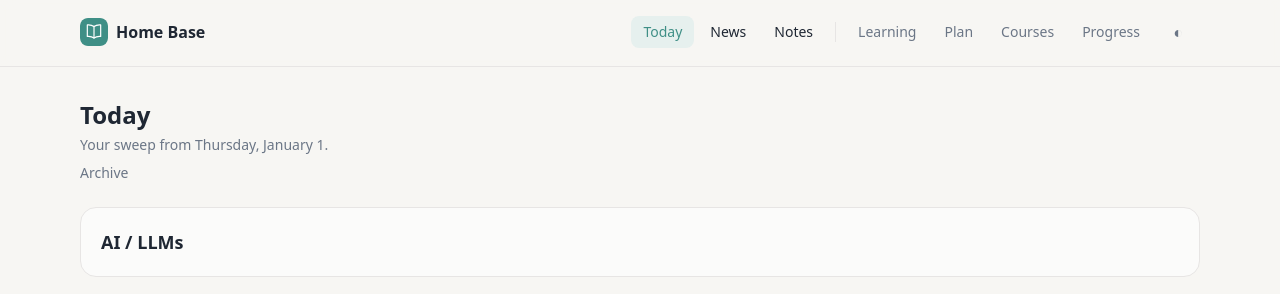
Test: App shell navigation › returning to Today shows the held brief instantly — no skeleton, no flash (FR15)
This screenshot has width=1280, height=294.
Check: the heading "AI / LLMs" is shown, box x1=101 y1=228 x2=184 y2=256
Click the link "Notes".
click(794, 32)  # box x1=774 y1=22 x2=813 y2=41
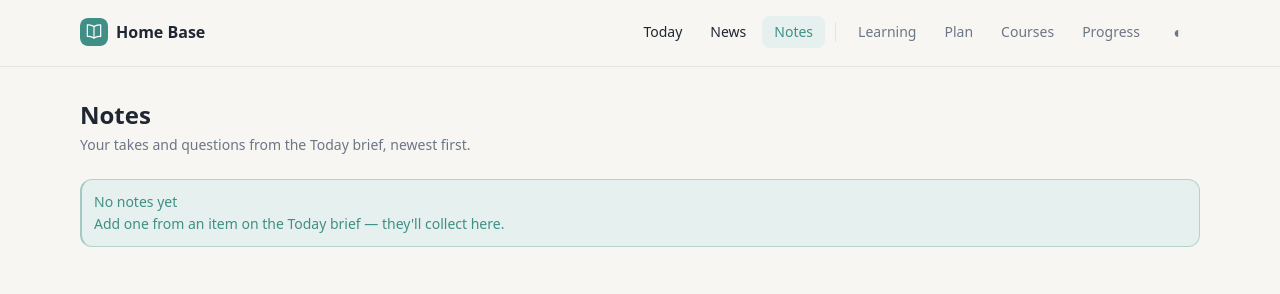
Check: the text "No notes yet" is shown, box x1=94 y1=192 x2=177 y2=211
Click the link "Today".
click(663, 32)  # box x1=643 y1=22 x2=682 y2=41
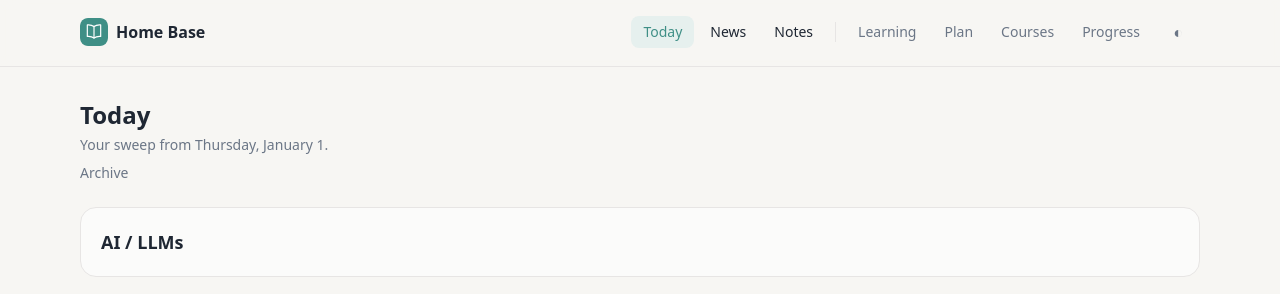
Check: the heading "AI / LLMs" is shown, box x1=101 y1=228 x2=184 y2=256
